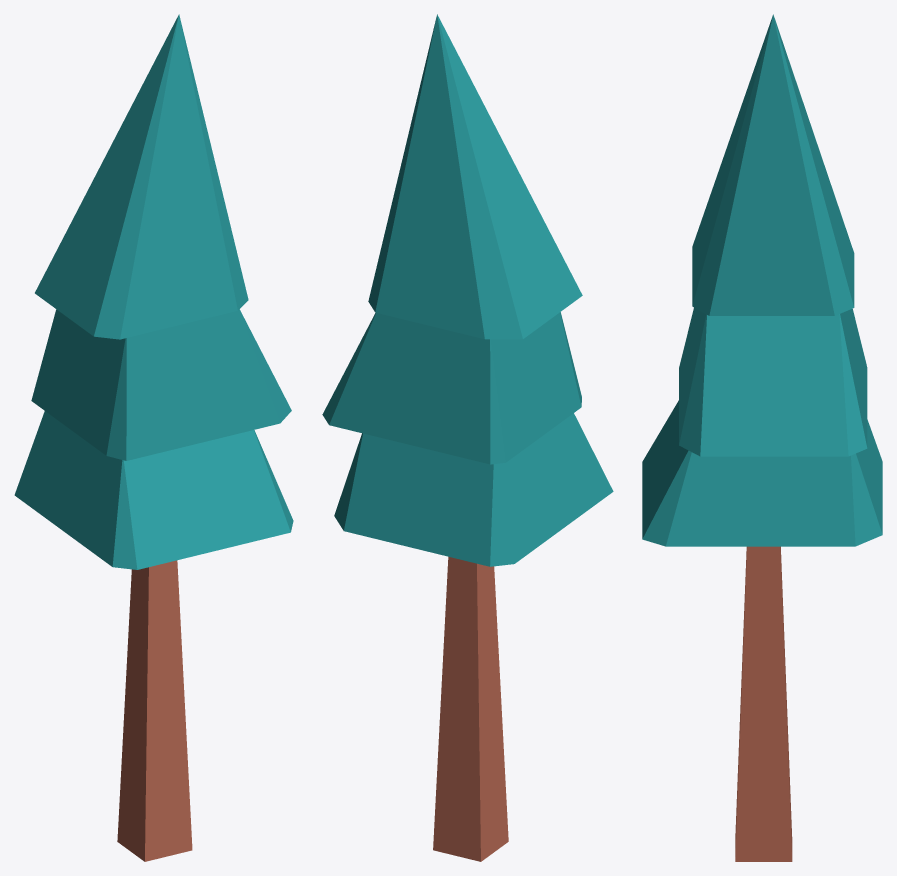
The model's file is tree-pine-tall-a.glb.
The picture shows the model from 3 angles, left to right: view 1: azimuth 30°, elevation 25°; view 2: azimuth 150°, elevation 25°; view 3: azimuth 270°, elevation 25°; orthographic projection. The views are drawn at different scales.
Parts seen in each view (by area): view 1: tree_pineTallA; view 2: tree_pineTallA; view 3: tree_pineTallA.
Part boxes in pixels (x1=…): tree_pineTallA: x1=14, y1=14, x2=293, y2=861; tree_pineTallA: x1=322, y1=14, x2=613, y2=861; tree_pineTallA: x1=642, y1=14, x2=882, y2=861.
Size of the model in its own units: 0.3863 by 1.53 by 0.392.
